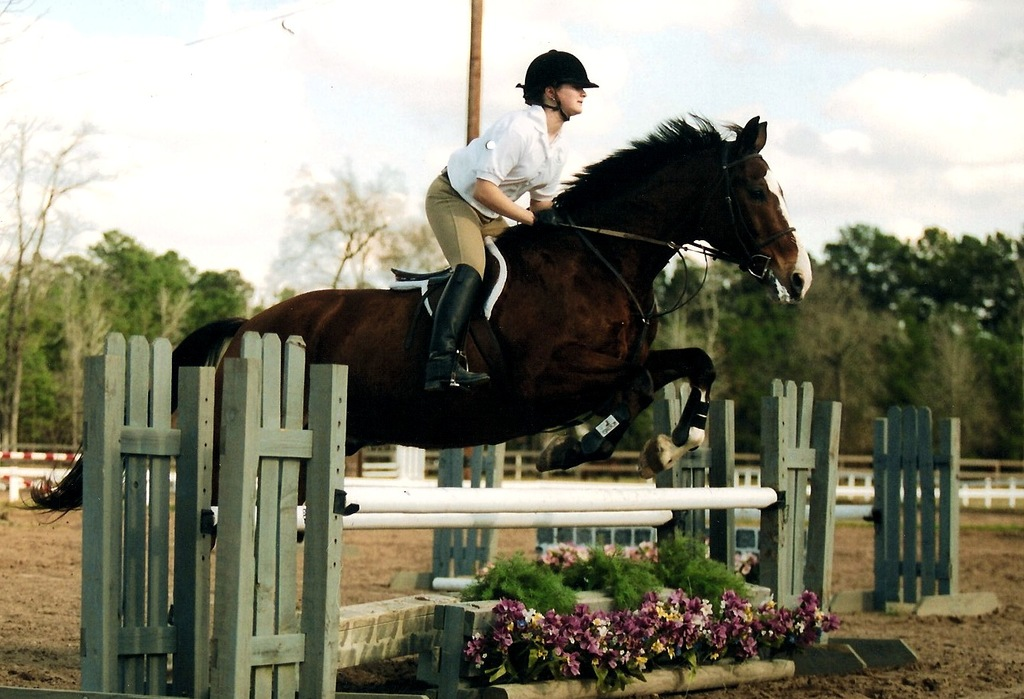person: (422, 48, 599, 390)
